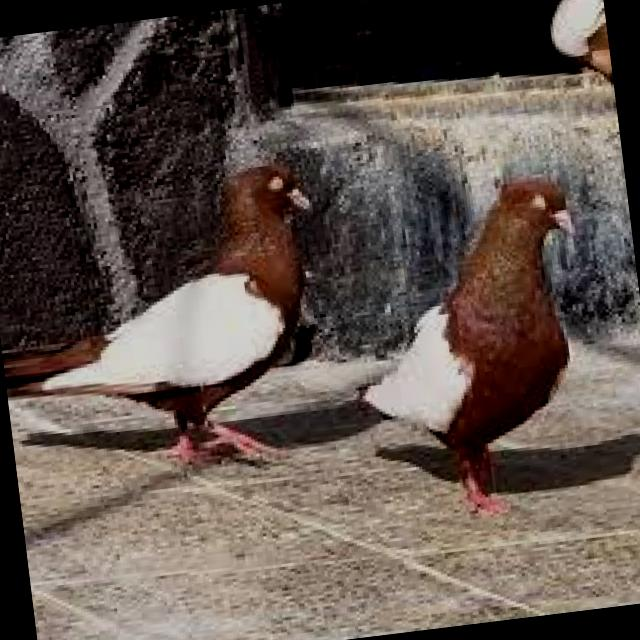bird: (0, 155, 361, 500), (304, 170, 619, 534)
